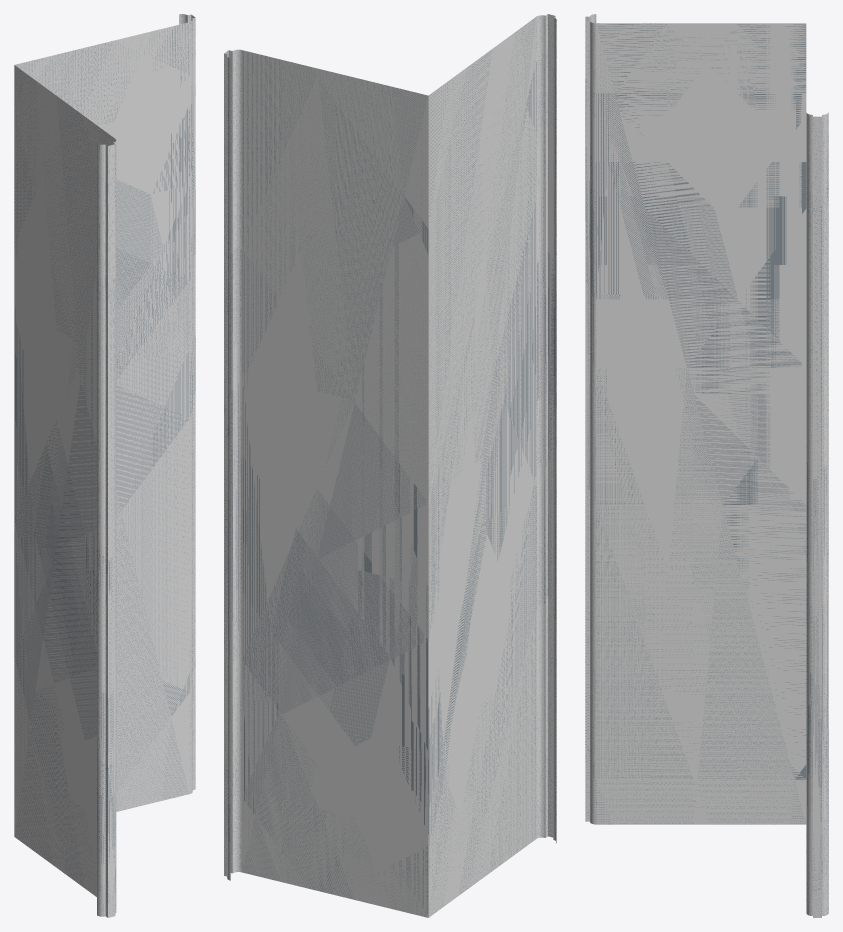
The model's file is PW_CornerFixElem_os_T1_110x110x010x400.dae.
3 renders of one model, left to right at view 1: azimuth 30°, elevation 25°; view 2: azimuth 150°, elevation 25°; view 3: azimuth 270°, elevation 25°, orthographic. The views are drawn at different scales.
Parts seen in each view (by area): view 1: SketchUp; view 2: SketchUp; view 3: SketchUp.
Boxes of the visible parts, left/top/right/bottom form: SketchUp: left=14, top=14, right=195, bottom=917; SketchUp: left=224, top=14, right=556, bottom=917; SketchUp: left=585, top=14, right=828, bottom=917.
Bounding box in the file's own units: 43.31 × 43.31 × 157.
